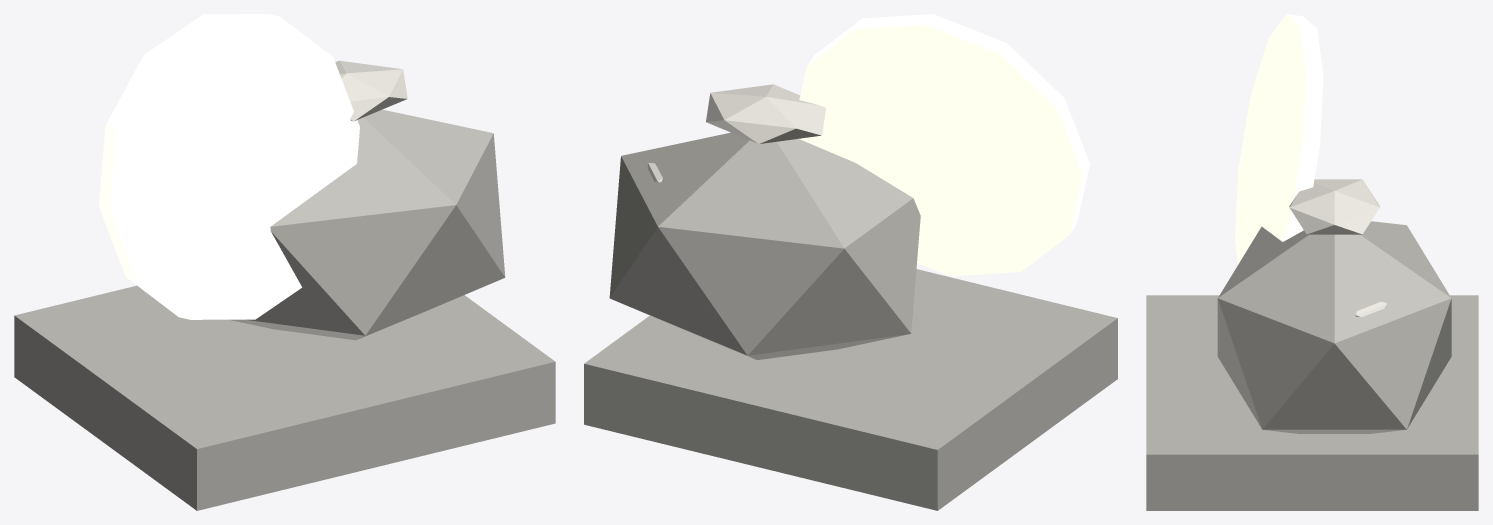
The model's file is LM21_MoonSnow.glb.
3 renders of one model, left to right at view 1: azimuth 30°, elevation 25°; view 2: azimuth 150°, elevation 25°; view 3: azimuth 270°, elevation 25°, orthographic. The views are drawn at different scales.
Visible parts, largest first — view 1: Base.007, Moon, Rock, SnowA; view 2: Base.007, Rock, Moon, SnowA; view 3: Base.007, Rock, Moon, SnowA.
Part boxes in pixels (left/top/right/bottom): Base.007: left=14, top=285, right=555, bottom=510; Moon: left=99, top=14, right=359, bottom=319; Rock: left=229, top=109, right=505, bottom=340; SnowA: left=335, top=60, right=407, bottom=121; Base.007: left=584, top=269, right=1117, bottom=510; Rock: left=609, top=132, right=920, bottom=360; Moon: left=799, top=14, right=1089, bottom=276; SnowA: left=706, top=84, right=825, bottom=143; Base.007: left=1146, top=295, right=1478, bottom=510; Rock: left=1217, top=221, right=1451, bottom=433; Moon: left=1235, top=14, right=1323, bottom=263; SnowA: left=1289, top=179, right=1379, bottom=234.
Bounding box in the file's own units: 2.05 × 1.84 × 1.5.
